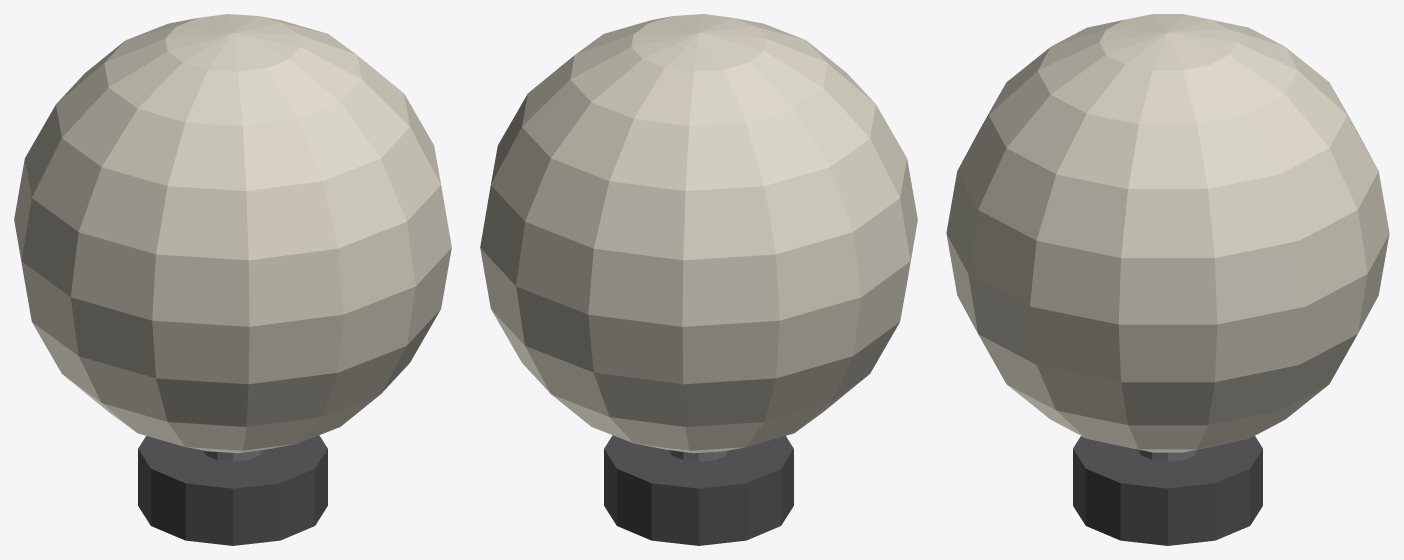
Rendered from ilu_globo.glb.
3 renders of one model, left to right at view 1: azimuth 30°, elevation 25°; view 2: azimuth 150°, elevation 25°; view 3: azimuth 270°, elevation 25°, orthographic.
Visible parts, largest first — view 1: ILU_Globo_v01; view 2: ILU_Globo_v01; view 3: ILU_Globo_v01.
Boxes of the visible parts, x1,y1,x2,y2 form: ILU_Globo_v01: (14, 14, 451, 545); ILU_Globo_v01: (480, 14, 917, 545); ILU_Globo_v01: (946, 14, 1389, 545).
Size of the model in its own units: 0.273 by 0.33 by 0.28.
